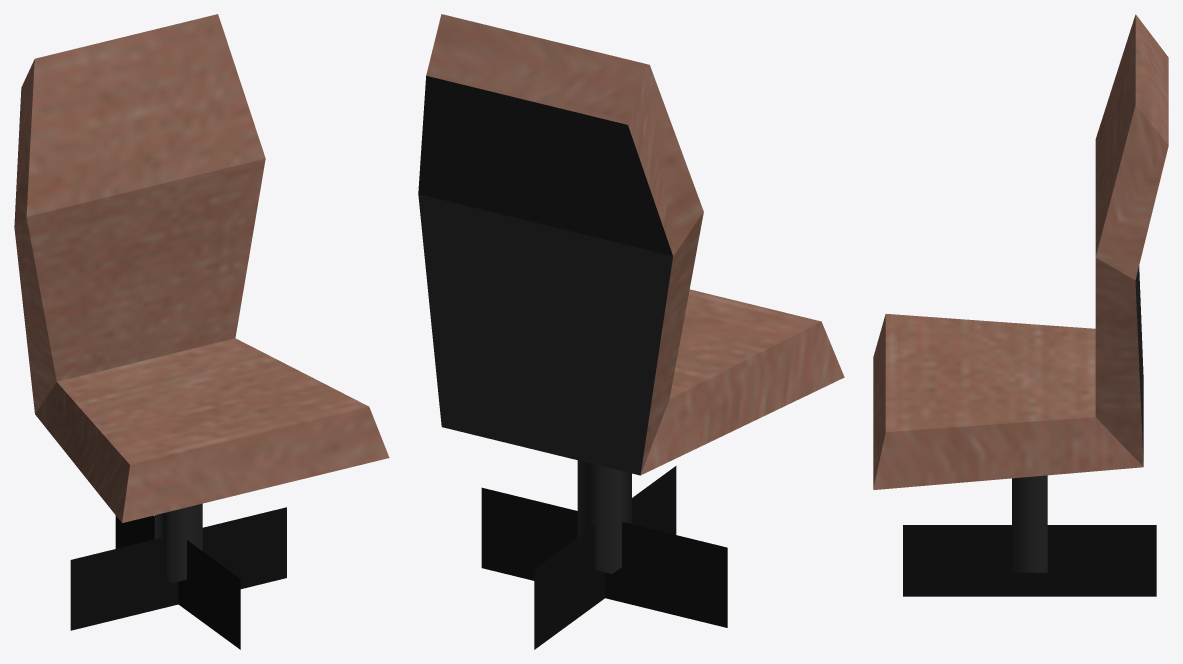
The model's file is Computer_chair_3.fbx.
3 renders of one model, left to right at view 1: azimuth 30°, elevation 25°; view 2: azimuth 150°, elevation 25°; view 3: azimuth 270°, elevation 25°, orthographic. The views are drawn at different scales.
Parts seen in each view (by area): view 1: Computerchair; view 2: Computerchair; view 3: Computerchair.
Boxes of the visible parts, x1,y1,x2,y2 form: Computerchair: [14, 14, 389, 649]; Computerchair: [418, 14, 844, 649]; Computerchair: [873, 14, 1168, 596].
Size of the model in its own units: 0.8071 by 1.53 by 0.7615.
